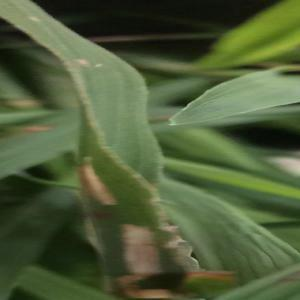1 RiceBlast: (109, 209, 168, 282), (82, 154, 123, 205)
